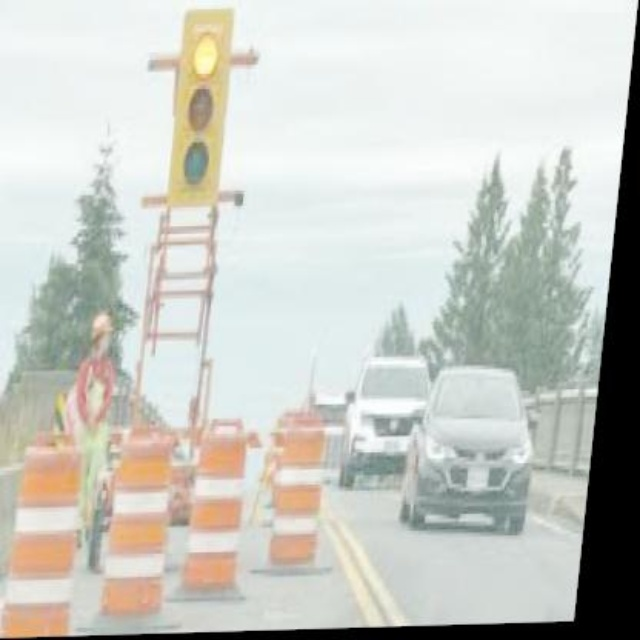obstacle: (12, 446, 99, 639), (107, 441, 186, 621), (272, 414, 343, 571), (194, 428, 255, 597)
